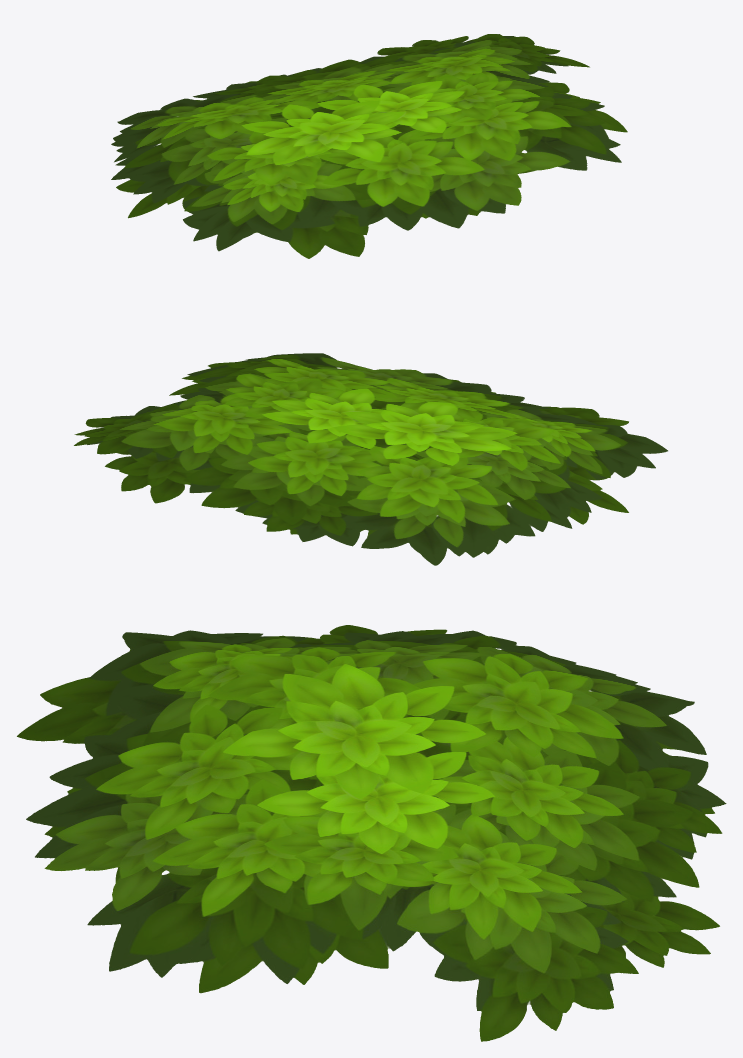
Rendered from grnd.fbx.
3 views of the same model, one above another, from view 1: azimuth 30°, elevation 25°; view 2: azimuth 150°, elevation 25°; view 3: azimuth 270°, elevation 25° (orthographic). The views are drawn at different scales.
Parts seen in each view (by area): view 1: Grid.002; view 2: Grid.002; view 3: Grid.002.
Part boxes in pixels (x1,y1,x2,y2): Grid.002: [111, 34, 627, 258]; Grid.002: [74, 353, 667, 565]; Grid.002: [17, 625, 726, 1041].
Bounding box in the file's own units: 12074 × 804 × 8699.
